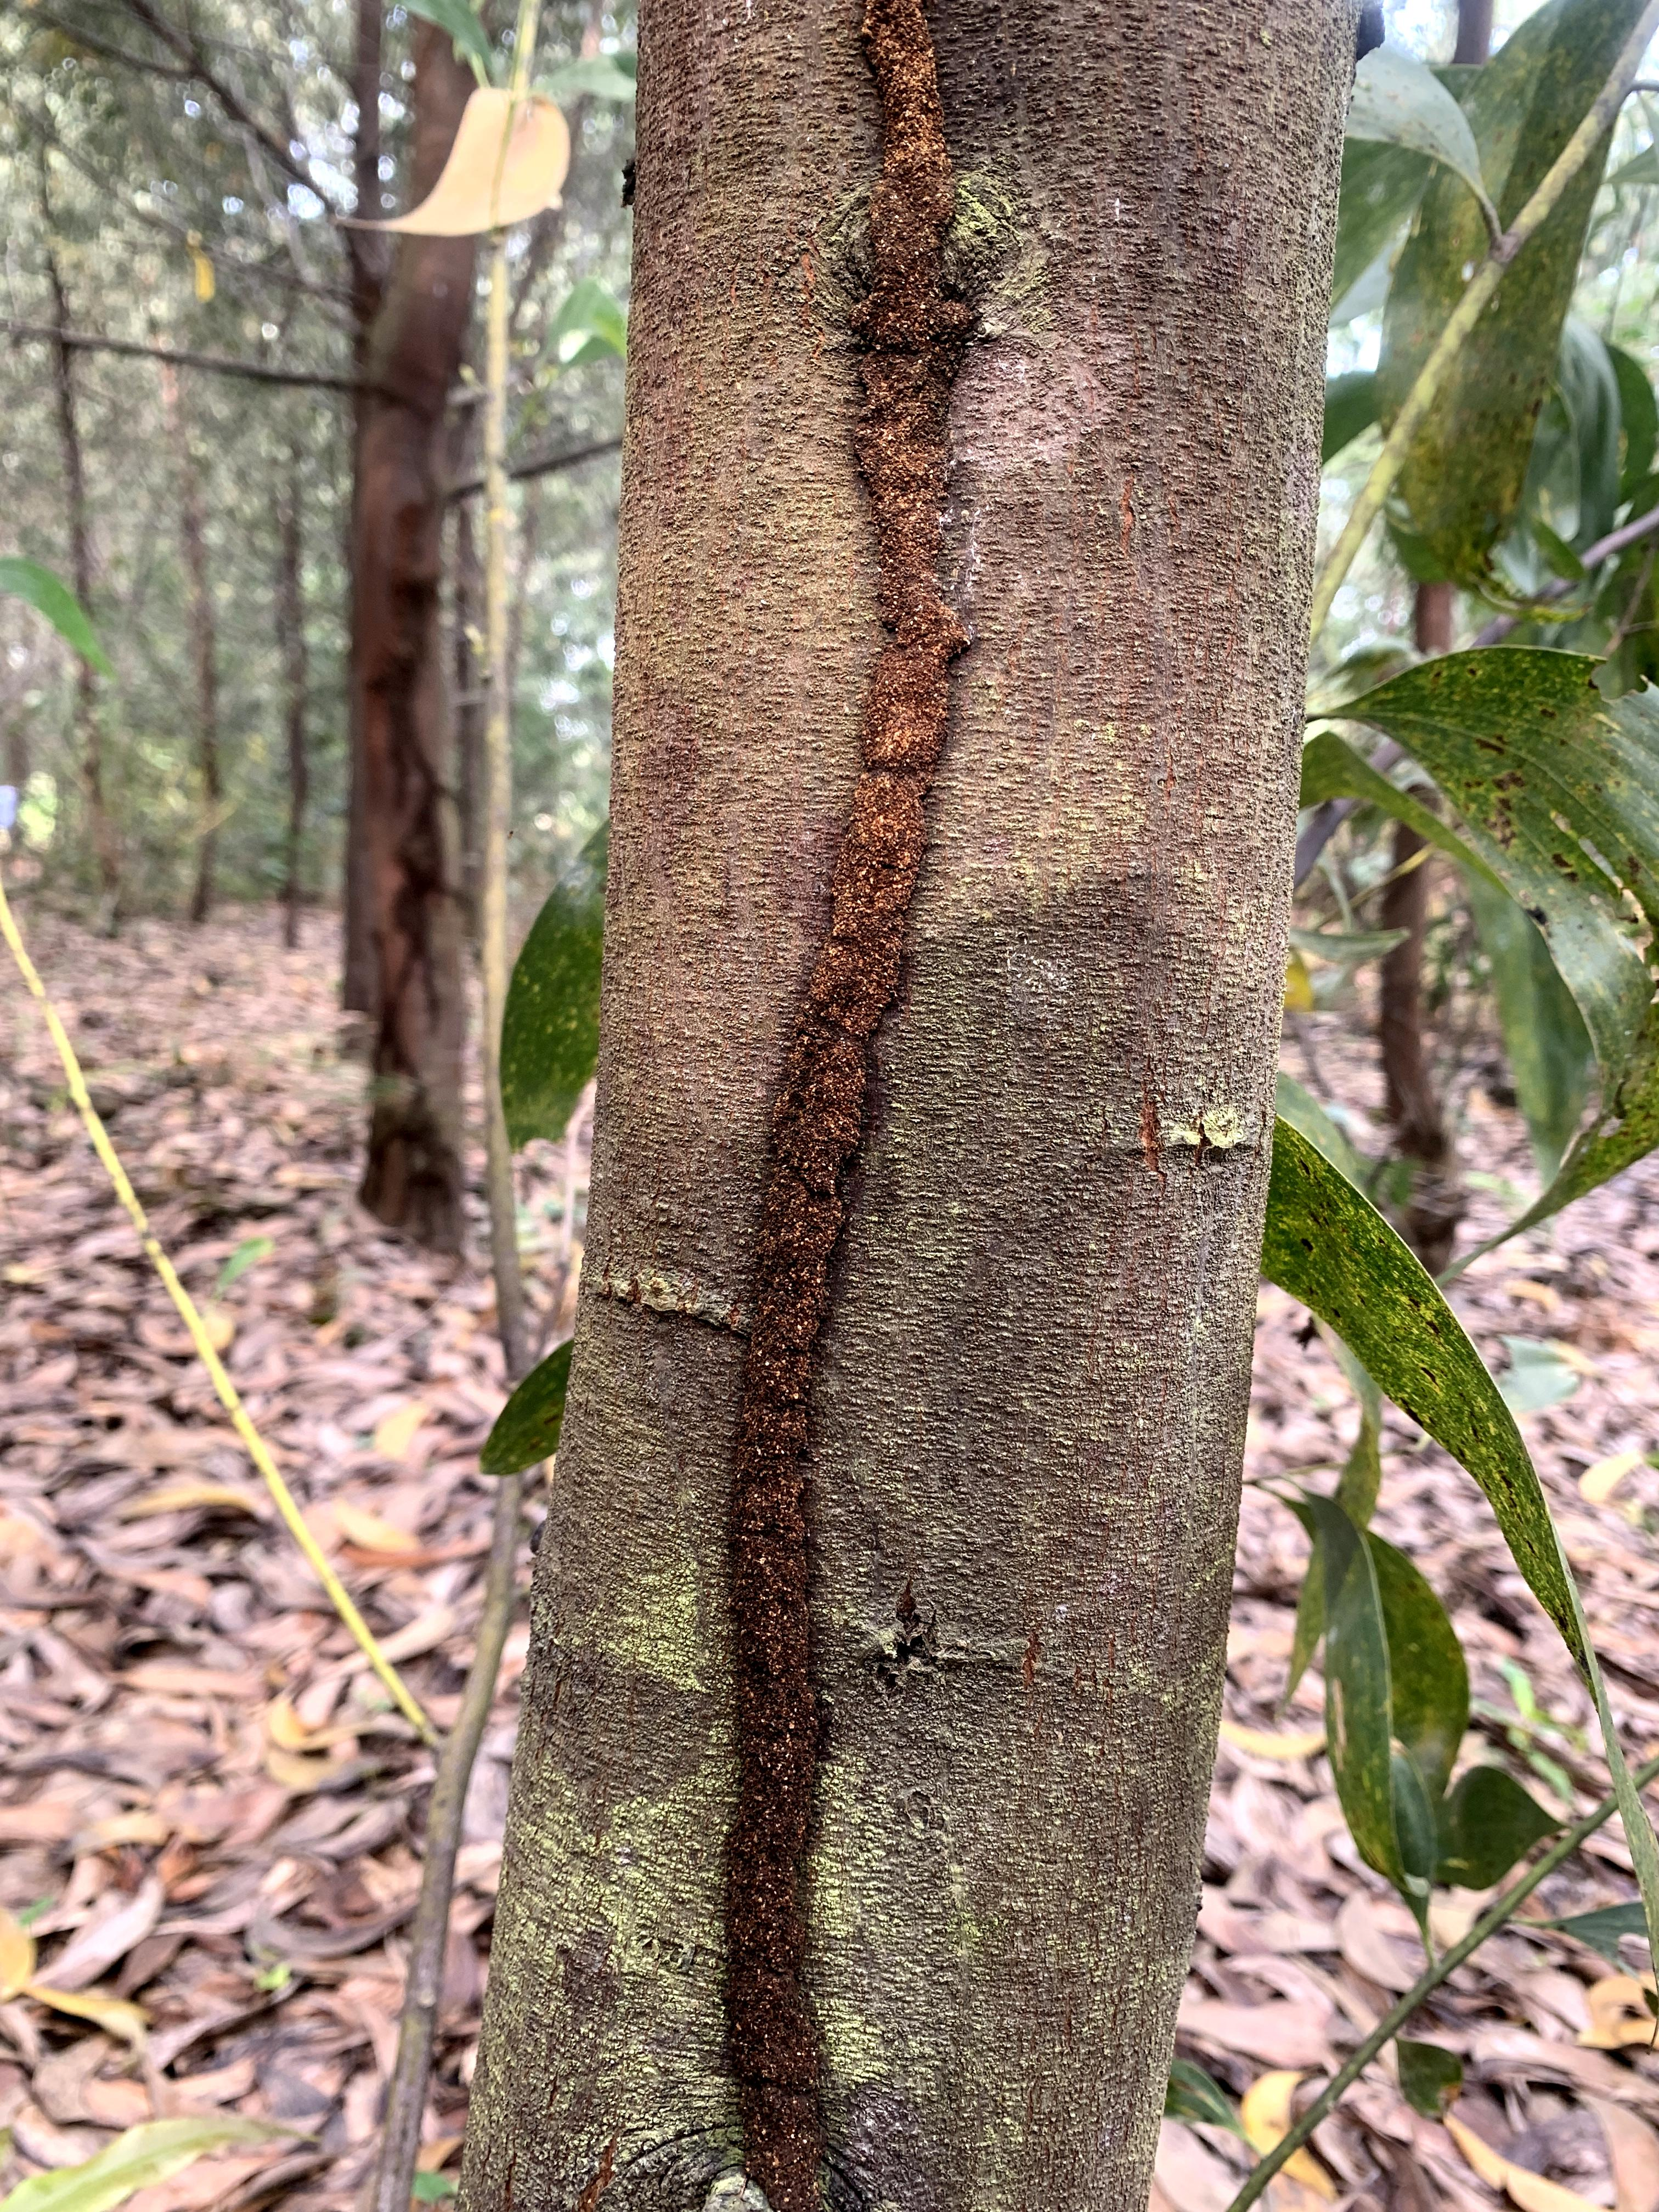Termite - Nest: (720, 0, 978, 2212)
